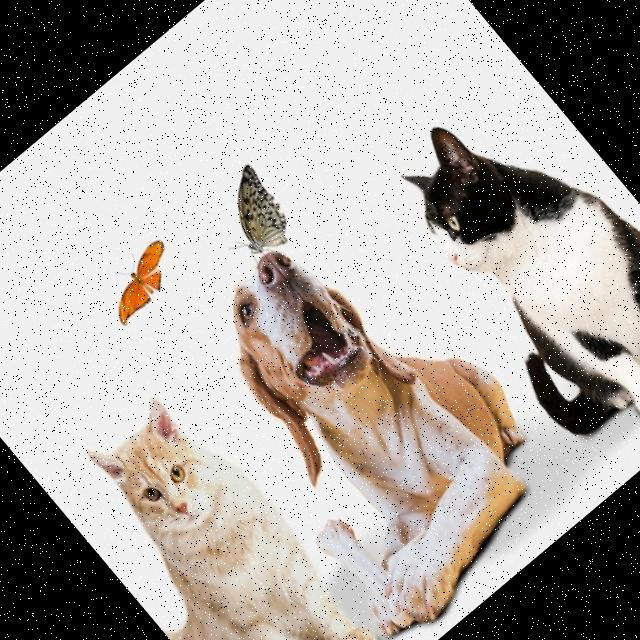Dog: (149, 188, 592, 640)
